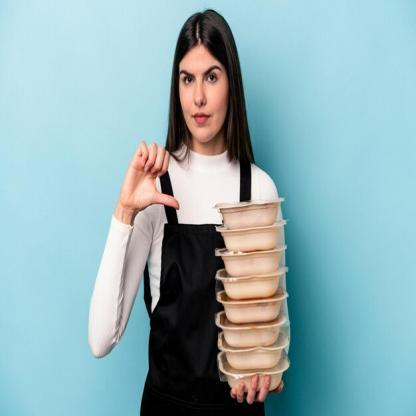thumb_down: (119, 137, 181, 217)
